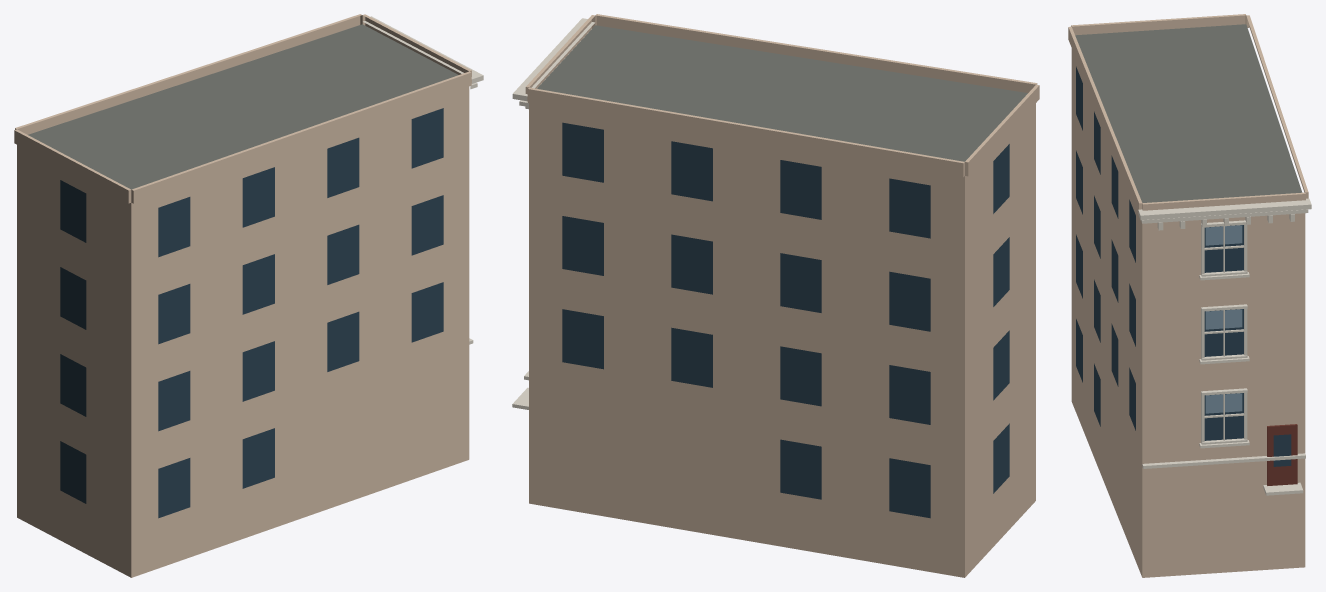
The picture shows the model from 3 angles, left to right: view 1: azimuth 30°, elevation 25°; view 2: azimuth 150°, elevation 25°; view 3: azimuth 270°, elevation 25°; orthographic projection. The views are drawn at different scales.
Visible parts, largest first — view 1: Footprint 0 / surface 2, Footprint 0 / surface 1, Inset glazing, Facade bay volumes, Cornices and window frames; view 2: Footprint 0 / surface 2, Inset glazing, Footprint 0 / surface 1, Facade bay volumes, Cornices and window frames; view 3: Footprint 0 / surface 2, Footprint 0 / surface 1, Inset glazing, Cornices and window frames, Facade bay volumes, Sky reflection panels, Storefronts and doors.
Boxes of the visible parts, x1,y1,x2,y2 form: Footprint 0 / surface 2: [17, 86, 469, 577]; Footprint 0 / surface 1: [28, 24, 458, 189]; Inset glazing: [60, 108, 443, 518]; Facade bay volumes: [14, 14, 471, 203]; Cornices and window frames: [363, 16, 483, 344]; Footprint 0 / surface 2: [529, 103, 1035, 577]; Inset glazing: [562, 122, 1009, 518]; Footprint 0 / surface 1: [537, 25, 1027, 161]; Facade bay volumes: [525, 14, 1039, 177]; Cornices and window frames: [512, 18, 594, 409]; Footprint 0 / surface 2: [1071, 48, 1305, 577]; Footprint 0 / surface 1: [1075, 24, 1302, 202]; Inset glazing: [1076, 66, 1291, 466]; Cornices and window frames: [1138, 198, 1311, 495]; Facade bay volumes: [1068, 14, 1308, 213]; Sky reflection panels: [1205, 225, 1242, 413]; Storefronts and doors: [1267, 424, 1297, 485].
Size of the model in its own units: 16.64 by 14.88 by 8.75.
